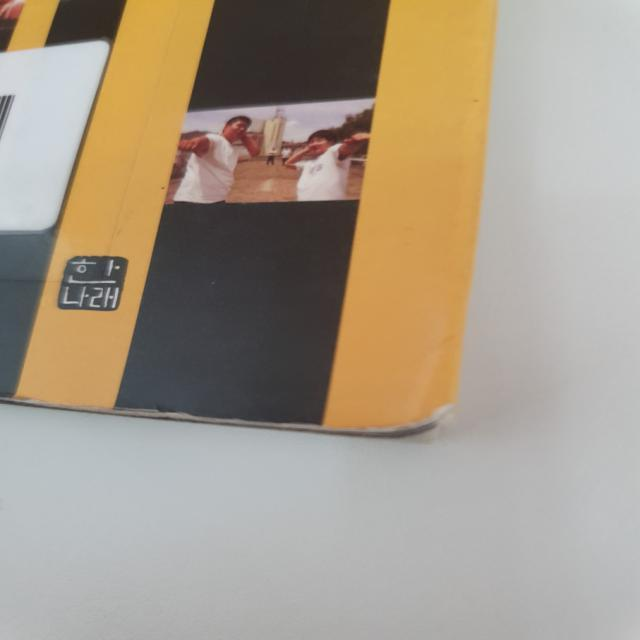Wornout: (0, 386, 251, 432), (252, 396, 476, 441)
